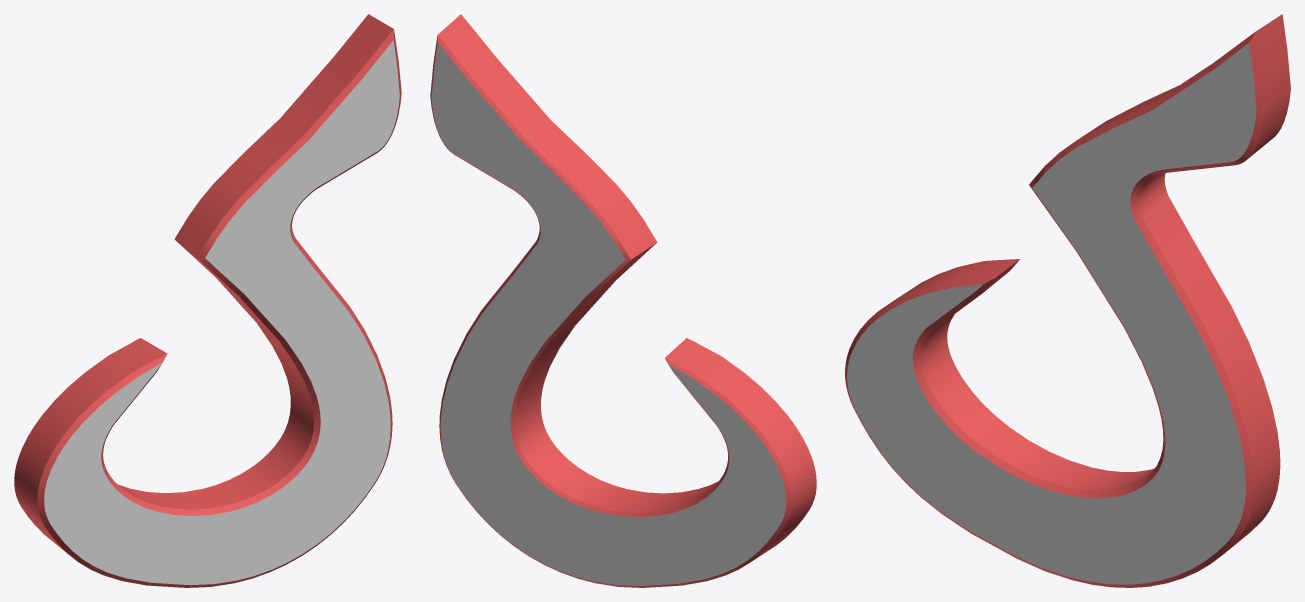
File: asset.glb
3 renders of one model, left to right at view 1: azimuth 30°, elevation 25°; view 2: azimuth 150°, elevation 25°; view 3: azimuth 330°, elevation 25°, orthographic. The views are drawn at different scales.
Visible parts, largest first — view 1: Cap_1, Extrude, Rounding_1; view 2: Cap_2, Extrude, Rounding_2; view 3: Cap_1, Extrude, Rounding_1.
Part boxes in pixels (bbox=[...]): Cap_1: bbox=[44, 40, 399, 585]; Extrude: bbox=[14, 14, 393, 551]; Rounding_1: bbox=[37, 29, 401, 587]; Cap_2: bbox=[431, 42, 786, 585]; Extrude: bbox=[438, 14, 816, 560]; Rounding_2: bbox=[430, 35, 790, 587]; Cap_1: bbox=[847, 43, 1256, 584]; Extrude: bbox=[894, 14, 1290, 553]; Rounding_1: bbox=[845, 32, 1264, 587].
Size of the model in its own units: 33.69 by 45.55 by 4.6.
